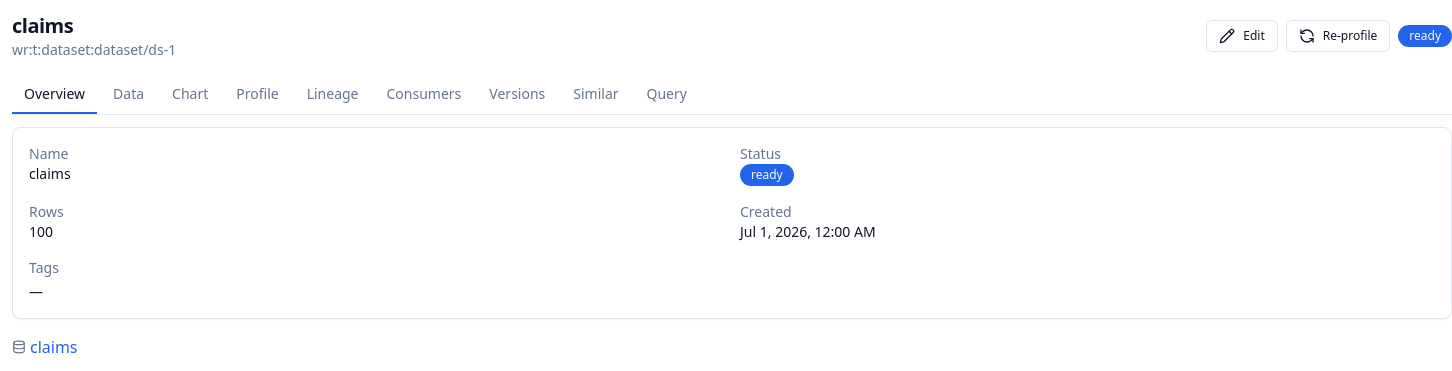
Test: Dataset detail page (consumers/versions/similar/re-profile, Tier 4a) › renders the consumers rollup from the real datasetConsumers query
First mount in the suite: give the suspended params promise a beat.
What coordinates should you click on to do the following:
click the tab "consumers"
I would click on:
 (424, 95)
Its box is [374,76,473,114].
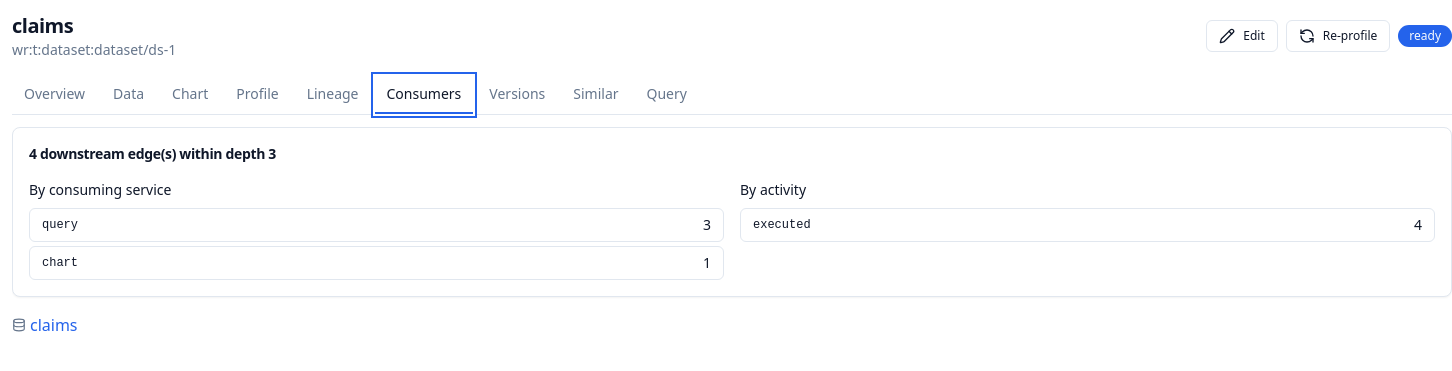
Now the heading "4 downstream edge(s) within depth 3" is shown, box [29,144,276,163]
Now the text "By consuming service" is shown, box [29,180,171,199]
